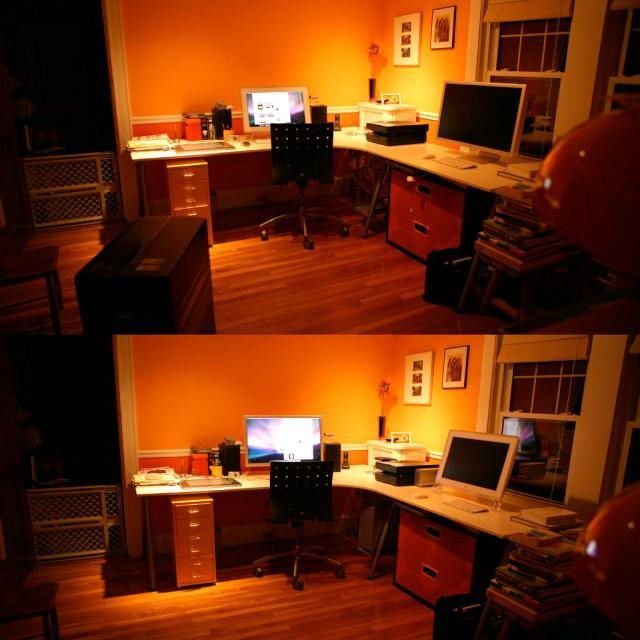chair: (252, 460, 345, 590), (257, 122, 351, 248), (0, 246, 65, 334), (0, 582, 60, 640)
desk: (124, 120, 546, 266), (147, 467, 560, 597)
keyboard: (179, 476, 240, 490), (438, 497, 488, 514), (431, 154, 478, 170)
tv: (434, 80, 528, 162), (434, 428, 521, 508), (243, 414, 323, 470), (240, 86, 310, 132)
